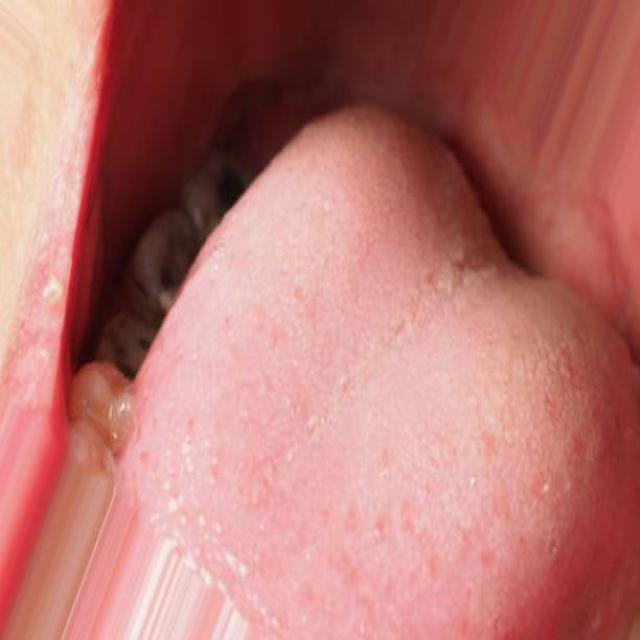caries: (133, 212, 204, 316), (188, 150, 252, 238), (100, 301, 161, 384)
